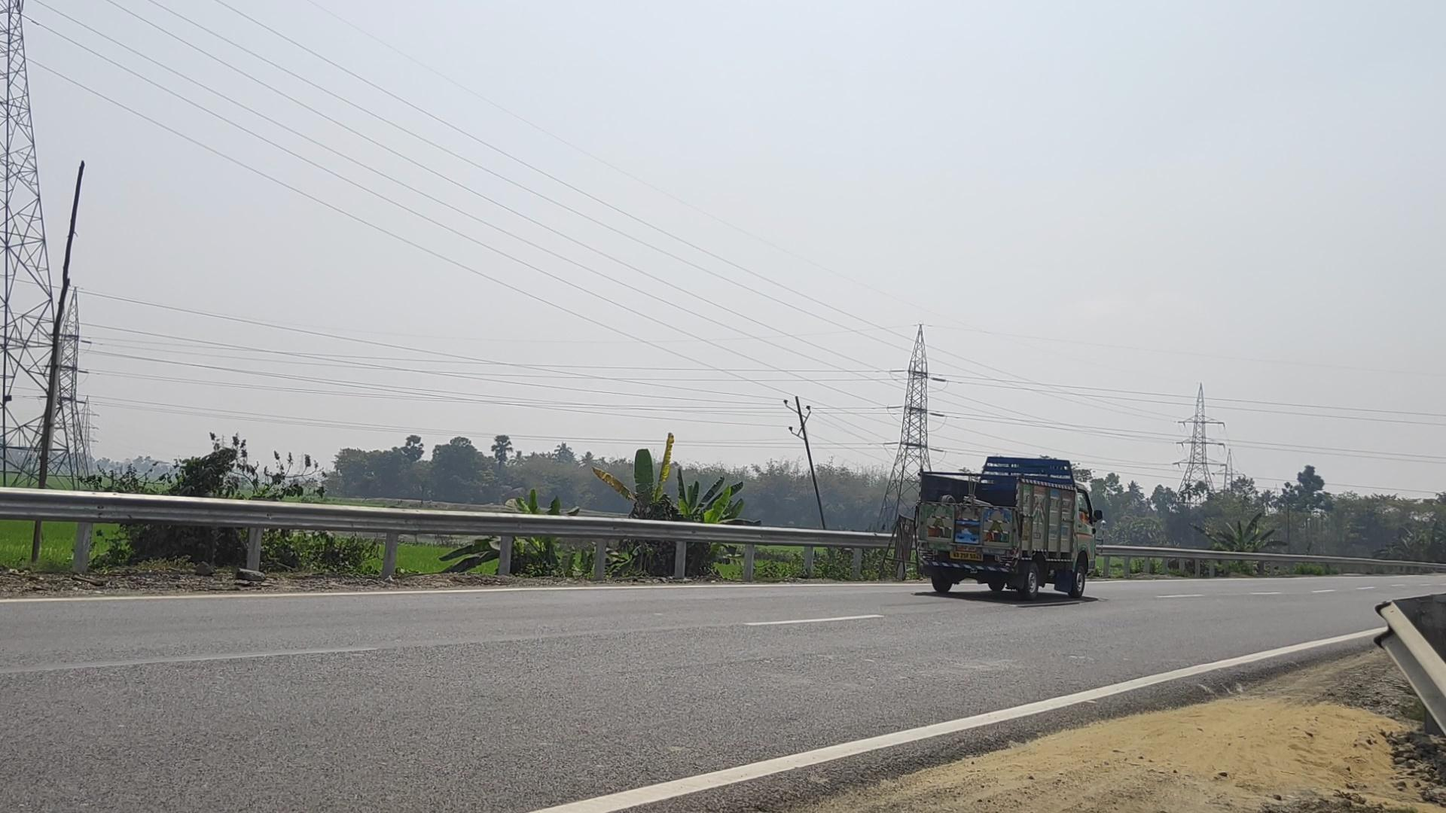van: (914, 456, 1106, 599)
